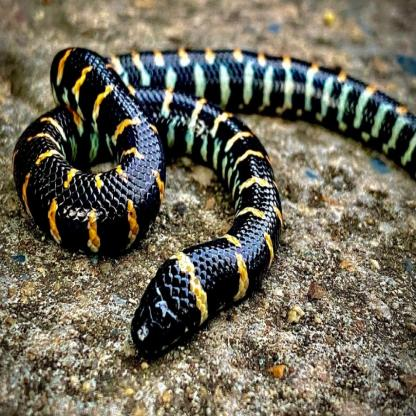snakes: (10, 42, 416, 359)
